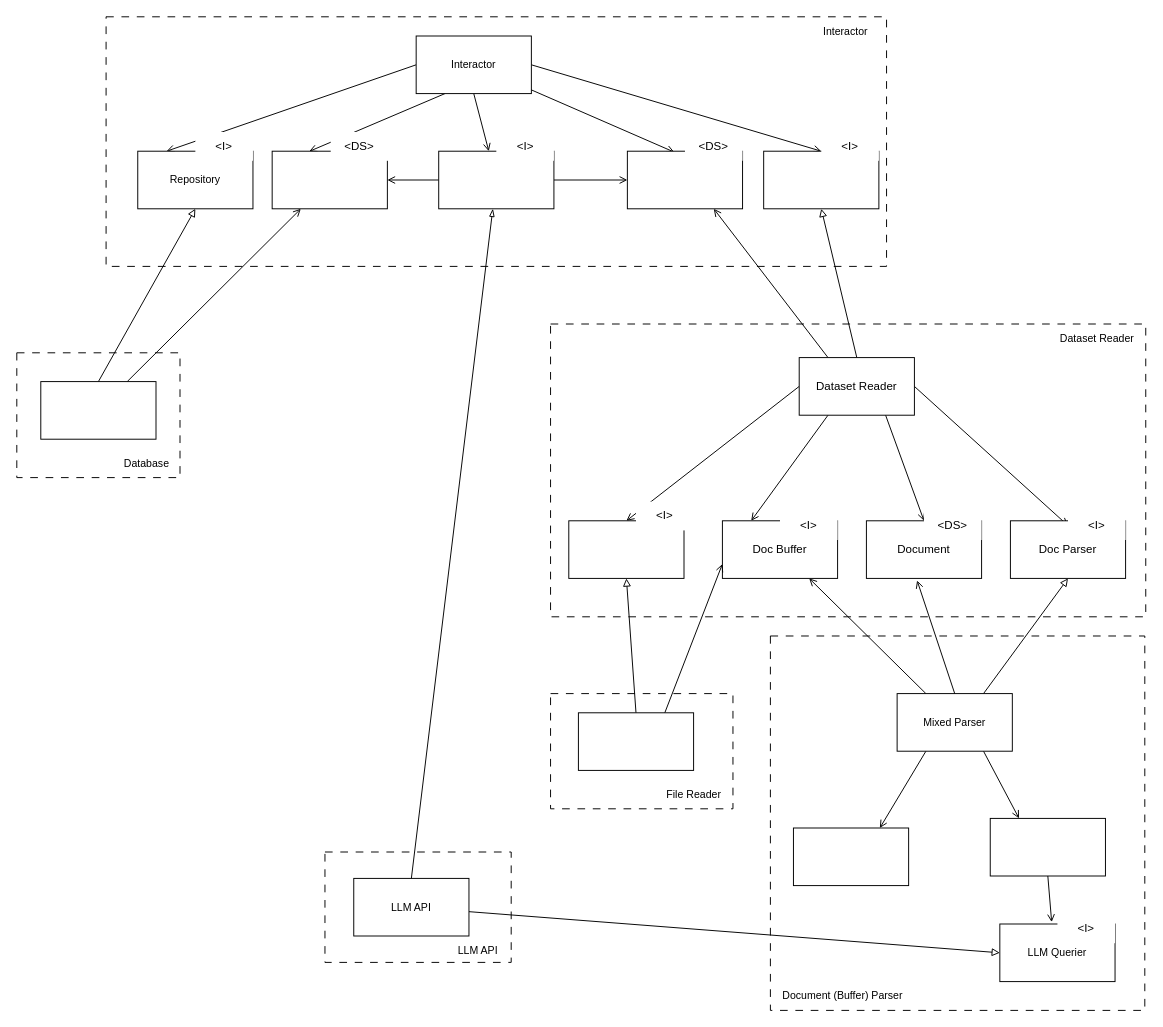
The diagram is 1163 pixels wide and 1027 high, and some of its shapes have lost their labels. The centre of each missing label's shape, as x and y in pixels:
Algorithmic Parser: point 850,856
Doc Reader: point 626,549
Document Database: point 98,410
Document Embedder: point 496,179
Embedded Document: point 329,179
LLM Parser: point 1047,846
Pdf Reader: point 635,741
Read Document: point 684,179
Reader: point 821,179
